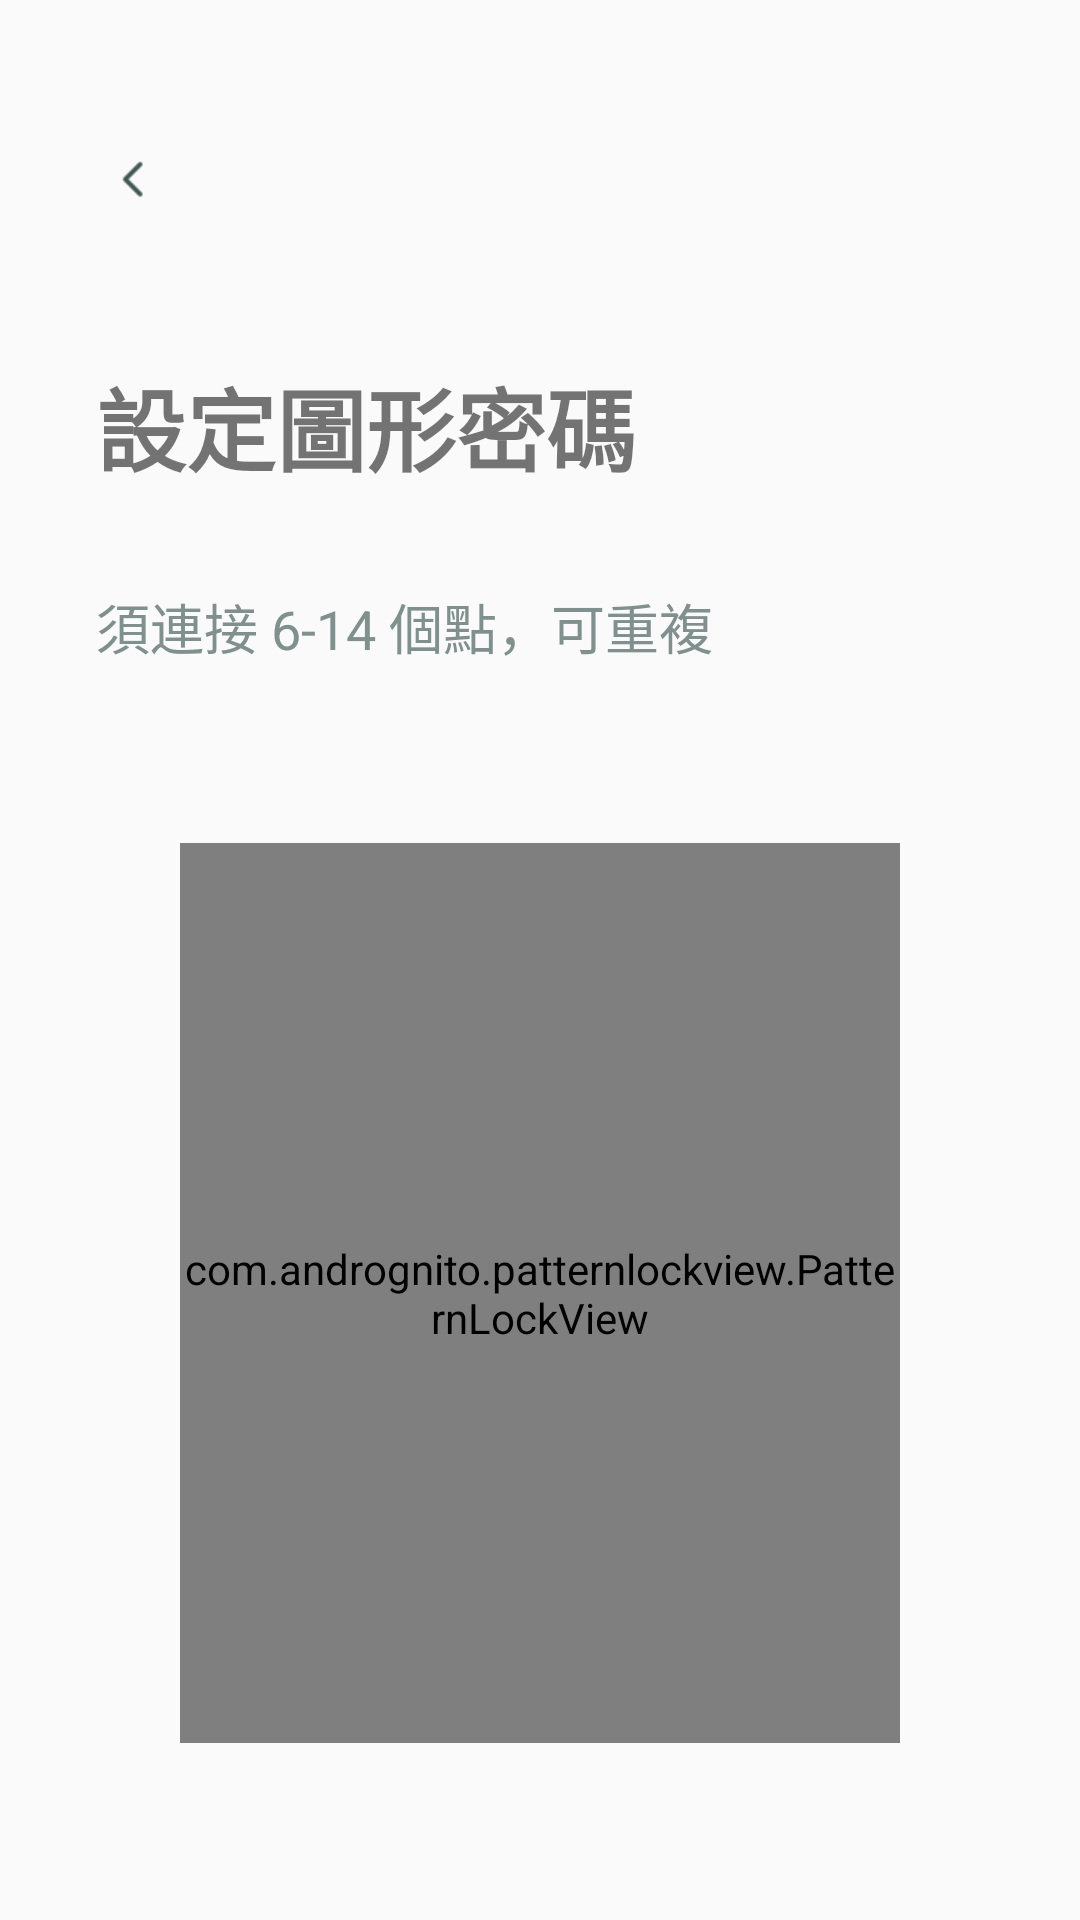

Where to tap for icons on this 1080px x 1920px app screen, as (x,y):
back: (132,179)
